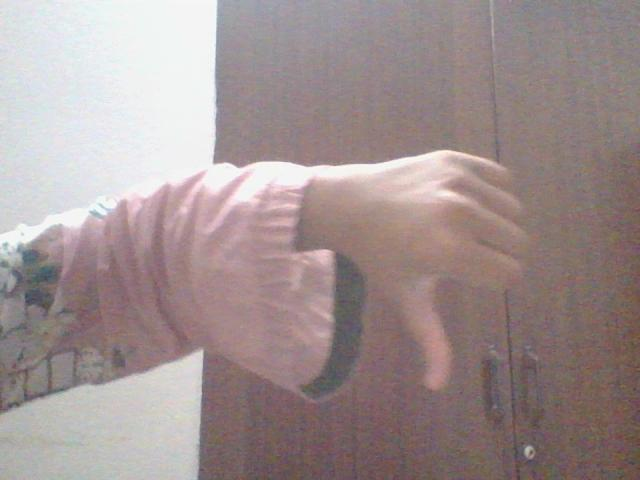thumbs-down: (356, 144, 534, 411)
